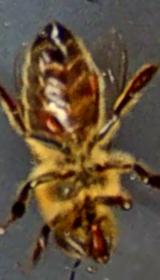varroa_mite: (22, 100, 74, 140)
